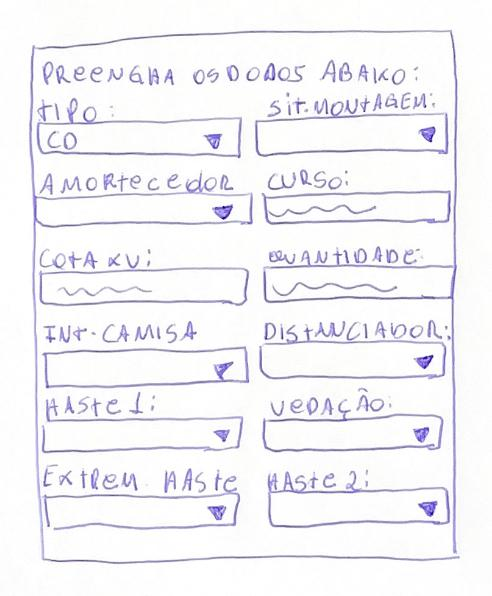Label: (40, 61, 420, 86), (43, 464, 237, 492), (39, 169, 233, 196), (267, 91, 437, 119), (264, 320, 451, 344), (270, 387, 392, 418), (43, 321, 197, 345), (44, 392, 156, 421), (268, 245, 422, 265), (39, 246, 151, 272), (268, 469, 369, 492), (36, 99, 116, 123), (267, 168, 349, 191)
ListPicker: (44, 345, 248, 388), (256, 112, 448, 157), (38, 117, 242, 159), (44, 491, 240, 530), (35, 193, 253, 228), (42, 416, 243, 453), (269, 487, 450, 527), (260, 342, 447, 379), (263, 414, 443, 452)
Screen: (29, 29, 457, 564)
TextBox: (40, 268, 248, 306), (263, 265, 455, 303), (264, 190, 450, 225)
